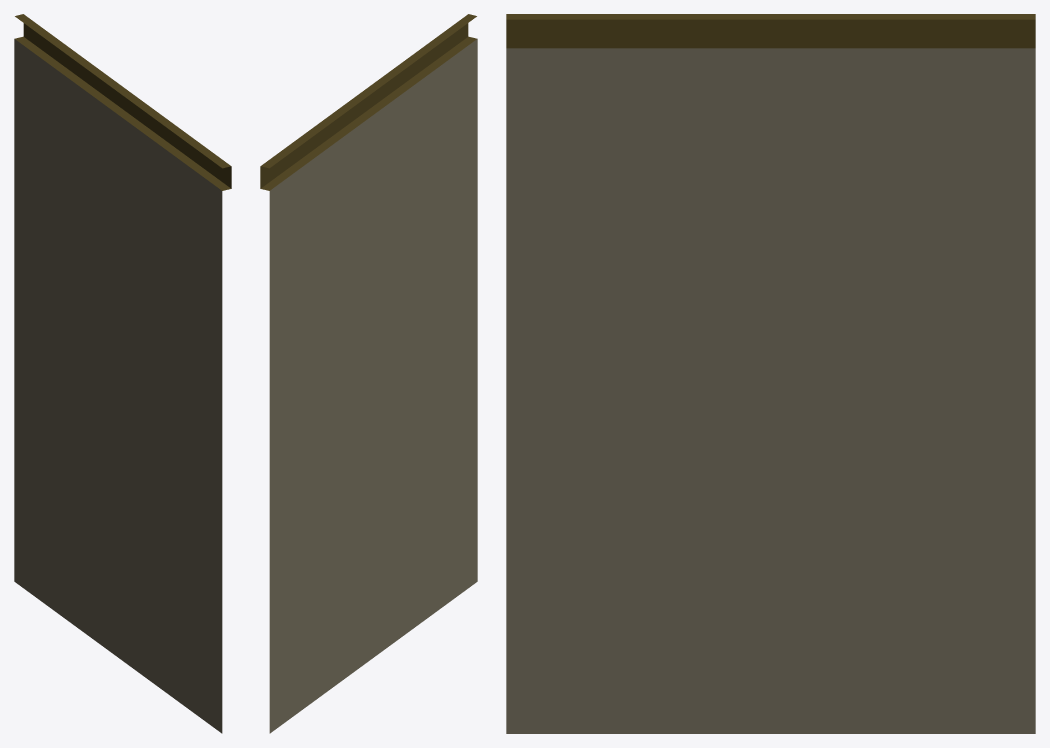
The model's file is GB_Floor1_Wall_2M.fbx.
3 views of the same model, side by side, from view 1: azimuth 30°, elevation 25°; view 2: azimuth 150°, elevation 25°; view 3: azimuth 270°, elevation 25° (orthographic). The views are drawn at different scales.
Visible parts, largest first — view 1: Bottom_Wall2; view 2: Bottom_Wall2; view 3: Bottom_Wall2.
Part boxes in pixels (x1,y1,x2,y2): Bottom_Wall2: [14, 14, 231, 733]; Bottom_Wall2: [260, 14, 477, 733]; Bottom_Wall2: [506, 14, 1035, 733].
Bounding box in the file's own units: 0.05 × 3 × 2.
